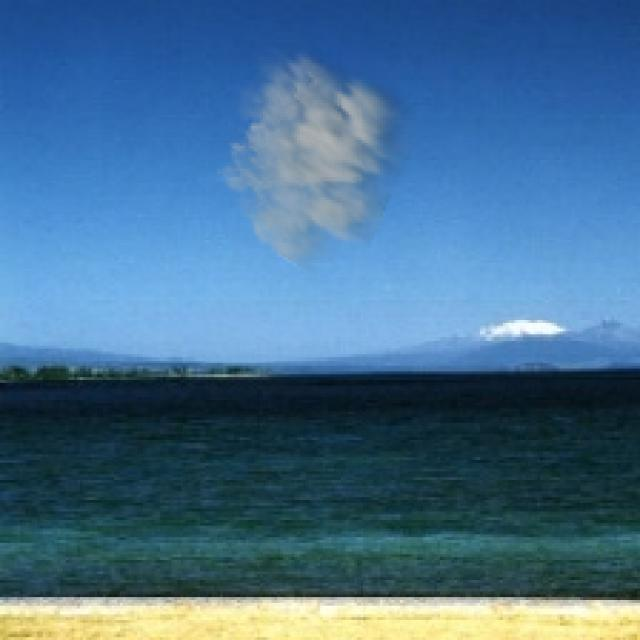Smoke: (214, 42, 426, 278)
